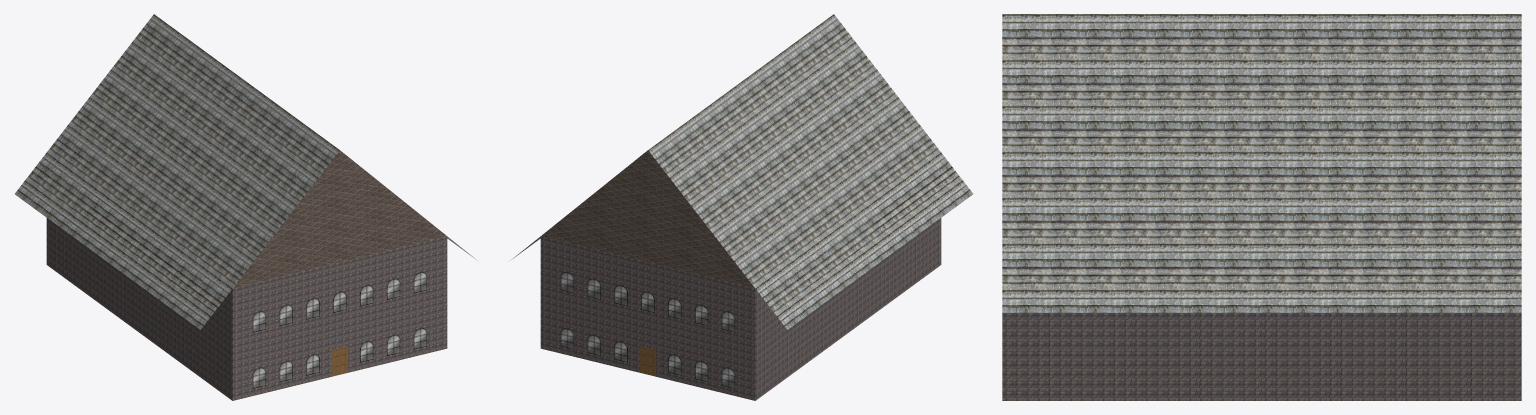
File: house 1b.fbx
3 views of the same model, side by side, from view 1: azimuth 30°, elevation 25°; view 2: azimuth 150°, elevation 25°; view 3: azimuth 270°, elevation 25° (orthographic). The views are drawn at different scales.
Parts seen in each view (by area): view 1: house 1b; view 2: house 1b; view 3: house 1b.
Part boxes in pixels (bbox=[...]): house 1b: bbox=[15, 14, 477, 400]; house 1b: bbox=[510, 14, 972, 400]; house 1b: bbox=[1002, 14, 1521, 400].
Size of the model in its own units: 260 by 200 by 300.
